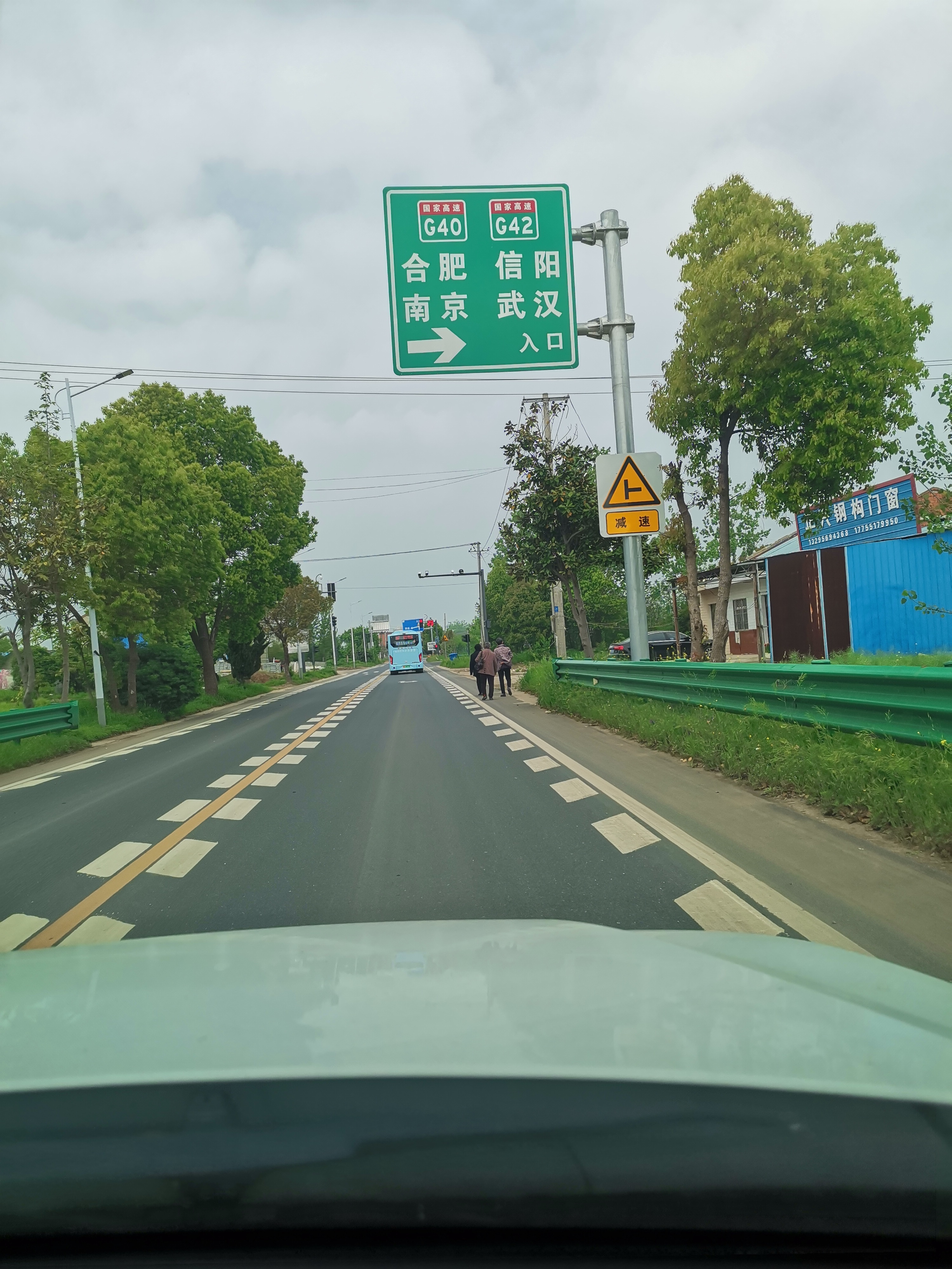lane: (34, 654, 406, 946), (419, 667, 808, 937)
